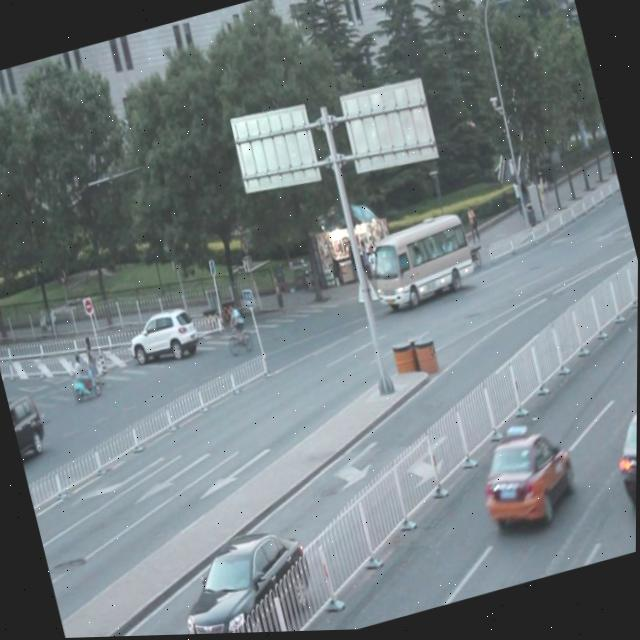car: (166, 516, 328, 636), (470, 423, 582, 537), (122, 301, 201, 372), (602, 400, 638, 520), (6, 385, 52, 473)
truck: (363, 215, 479, 317)
